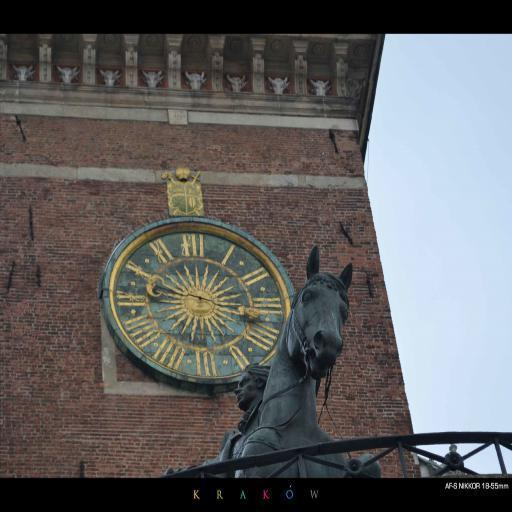horse: (160, 244, 382, 478)
